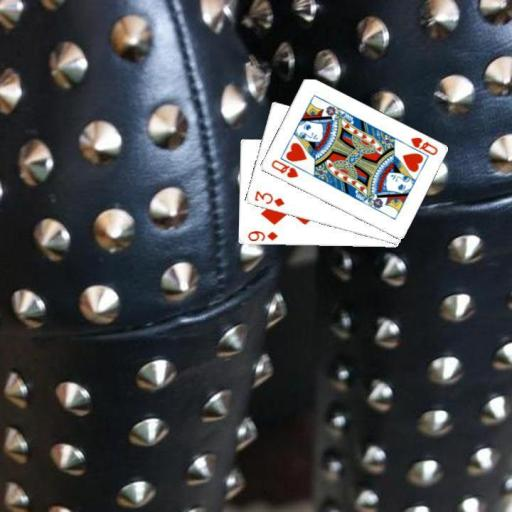card-corner: (400, 134, 439, 160), (268, 156, 300, 180), (251, 187, 286, 208), (244, 228, 278, 242)
